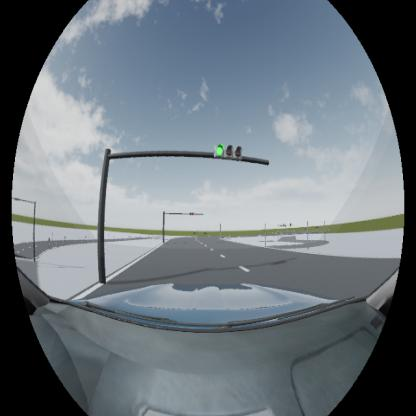Green Light: (214, 142, 244, 161)
